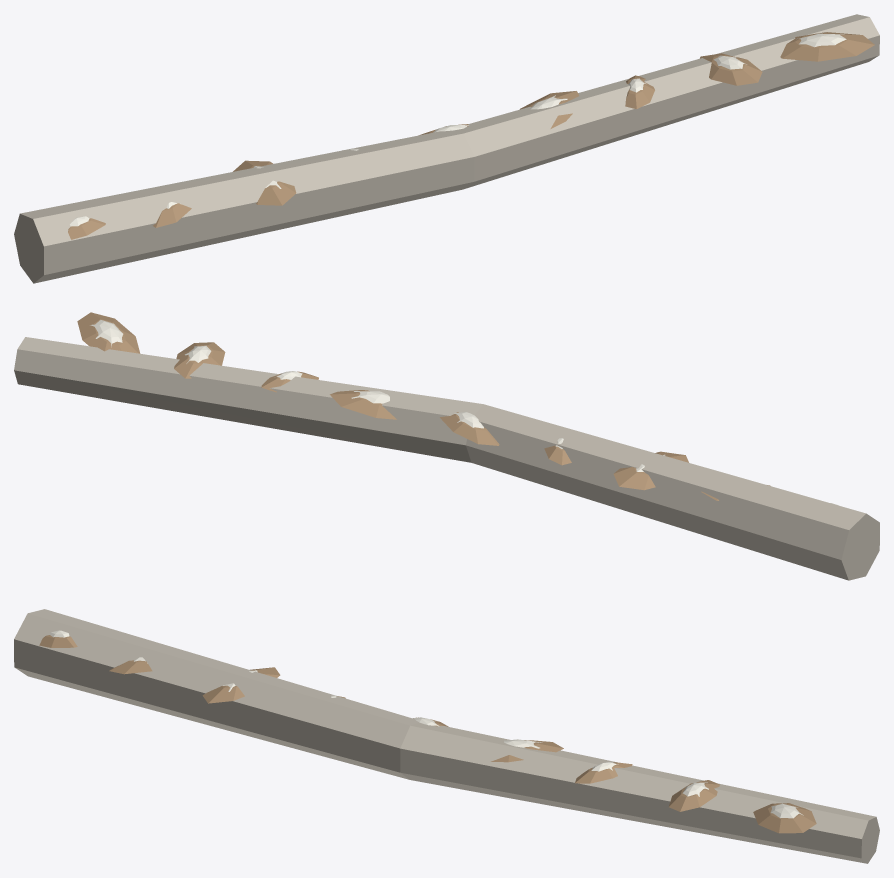
File: turkey-tail-branch.glb
The picture shows the model from 3 angles, top to bottom: view 1: azimuth 30°, elevation 25°; view 2: azimuth 150°, elevation 25°; view 3: azimuth 330°, elevation 25°; orthographic projection. The views are drawn at different scales.
Parts seen in each view (by area): view 1: turkey-tail-branch; view 2: turkey-tail-branch; view 3: turkey-tail-branch.
Boxes of the visible parts, <box> form: turkey-tail-branch: <box>14,14,879,283</box>; turkey-tail-branch: <box>14,312,879,580</box>; turkey-tail-branch: <box>14,609,879,863</box>.
Size of the model in its own units: 1.56 by 0.1131 by 0.1934.
